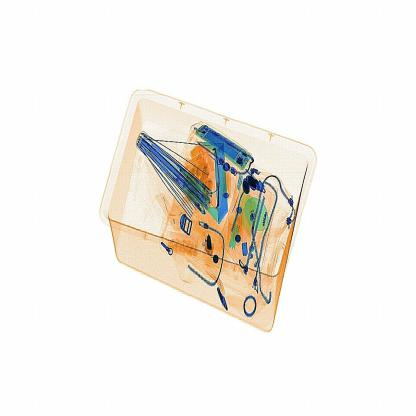wrench: (202, 230, 220, 258)
